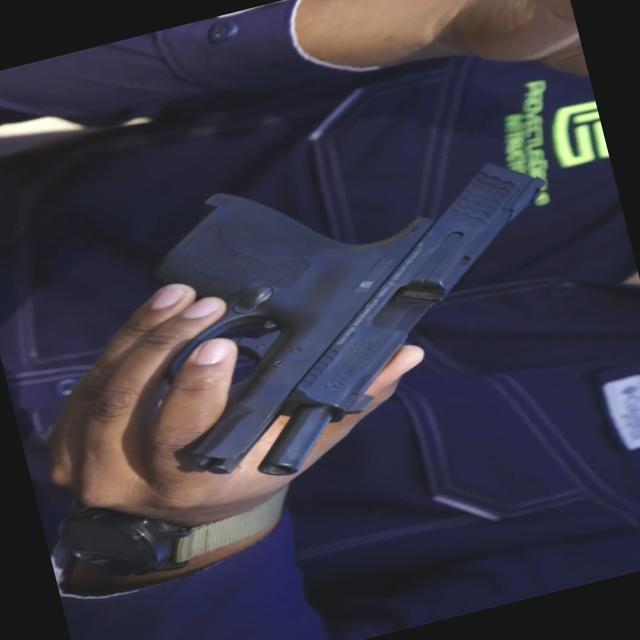handgun: (79, 120, 622, 516)
